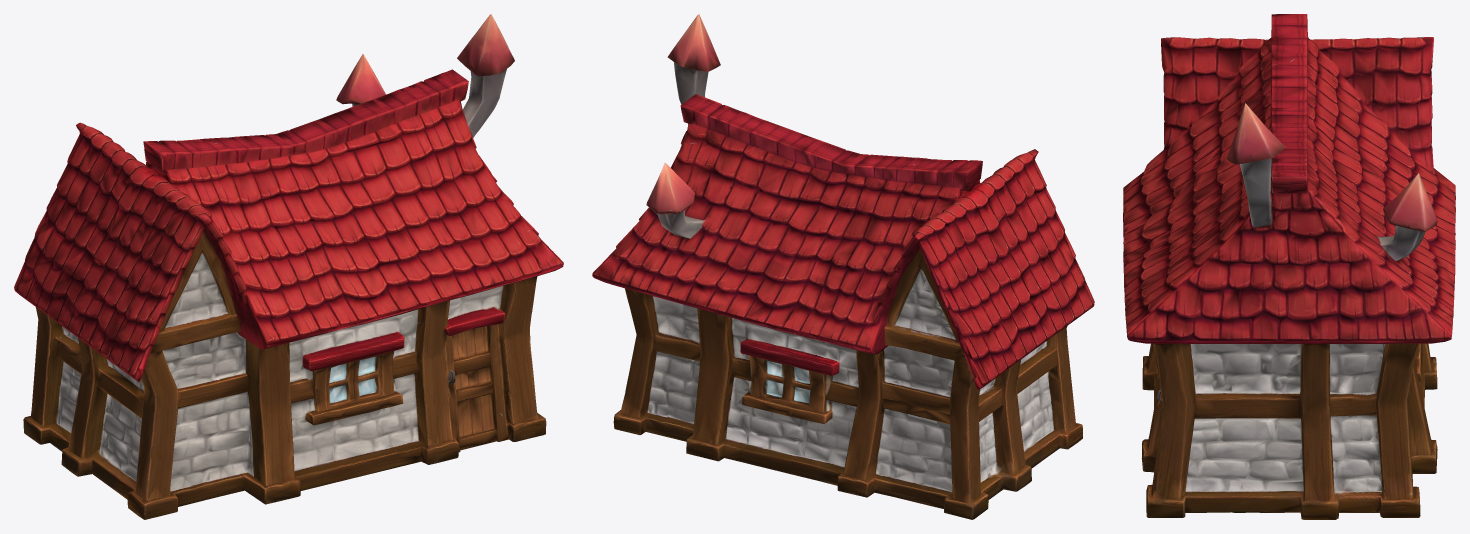
Rendered from house.glb.
3 views of the same model, side by side, from view 1: azimuth 30°, elevation 25°; view 2: azimuth 150°, elevation 25°; view 3: azimuth 270°, elevation 25° (orthographic). The views are drawn at different scales.
Bounding box in the file's own units: 1.9 × 1.7 × 1.25.
1 material, 1 textured.
